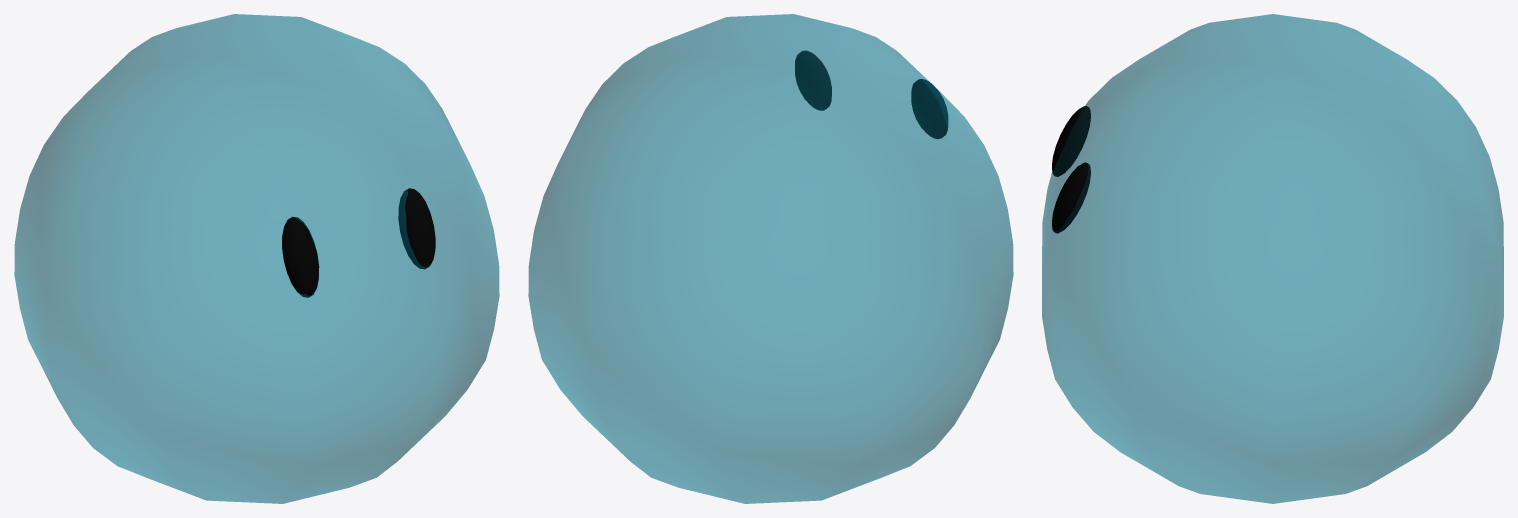
File: slime__.fbx
3 views of the same model, side by side, from view 1: azimuth 30°, elevation 25°; view 2: azimuth 150°, elevation 25°; view 3: azimuth 270°, elevation 25° (orthographic).
Parts seen in each view (by area): view 1: pSphere4; view 2: pSphere4; view 3: pSphere4.
Part boxes in pixels (<box>): pSphere4: <box>14,14,499,503</box>; pSphere4: <box>528,14,1013,503</box>; pSphere4: <box>1042,14,1503,503</box>.
Size of the model in its own units: 101 by 101 by 96.18.
